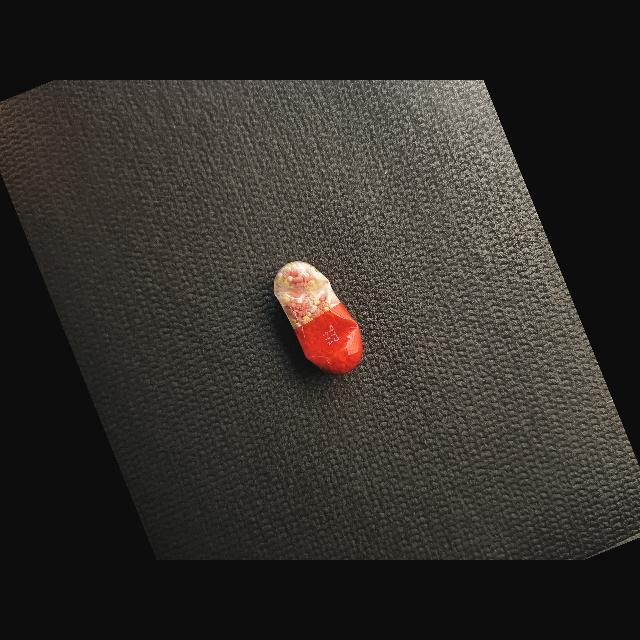Defective Capsule: (274, 261, 363, 375)
